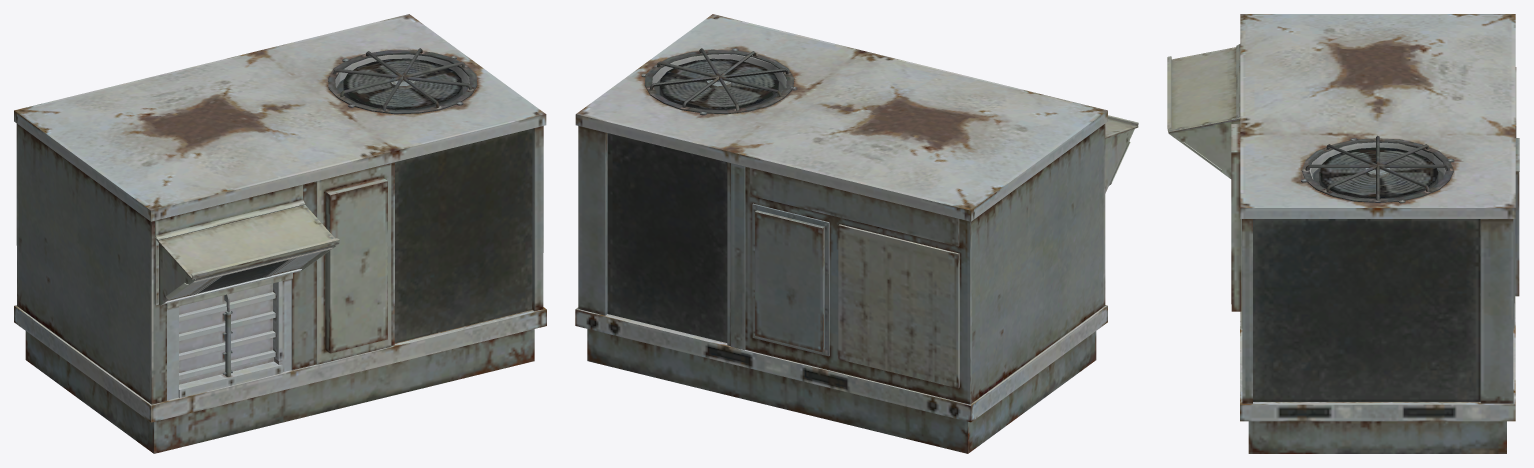
File: sm22_087_rooftoppartsb.fbx
The picture shows the model from 3 angles, left to right: view 1: azimuth 30°, elevation 25°; view 2: azimuth 150°, elevation 25°; view 3: azimuth 270°, elevation 25°; orthographic projection.
Parts seen in each view (by area): view 1: LOD_1_Group_0_Sub_1__sm22_087_rooftopPartsB_A_Mat; view 2: LOD_1_Group_0_Sub_1__sm22_087_rooftopPartsB_A_Mat; view 3: LOD_1_Group_0_Sub_1__sm22_087_rooftopPartsB_A_Mat.
Part boxes in pixels (bbox=[...]): LOD_1_Group_0_Sub_1__sm22_087_rooftopPartsB_A_Mat: bbox=[14, 14, 546, 453]; LOD_1_Group_0_Sub_1__sm22_087_rooftopPartsB_A_Mat: bbox=[575, 14, 1138, 453]; LOD_1_Group_0_Sub_1__sm22_087_rooftopPartsB_A_Mat: bbox=[1167, 14, 1519, 453].
Size of the model in its own units: 2 by 1.25 by 1.53.
